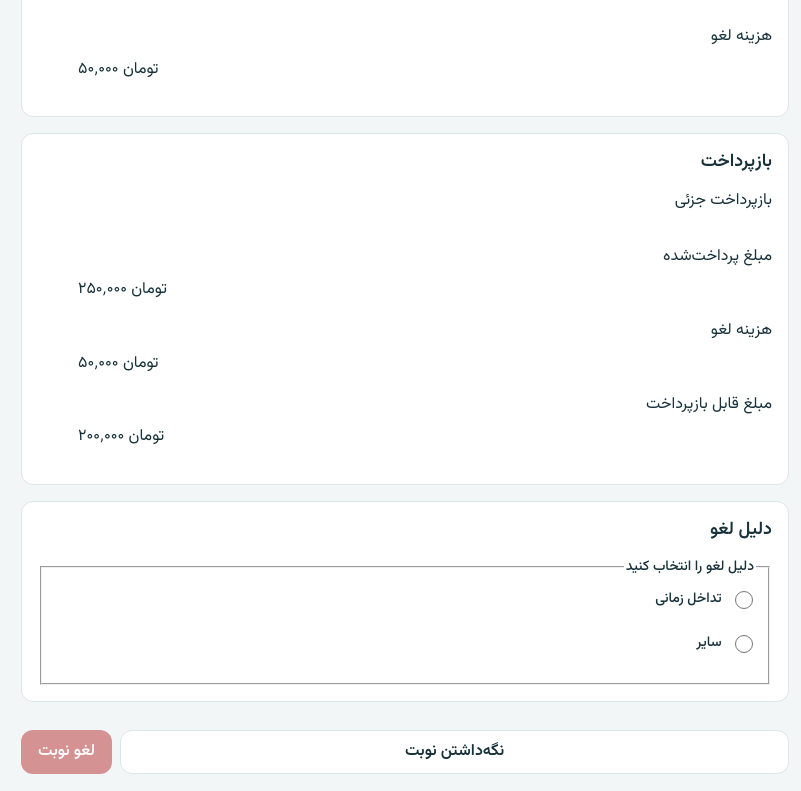
Test: AppointmentCancellationScreen › invalidates related queries after successful cancellation
(page scrolled)
Expected: the heading "دلیل لغو" is shown, x1=710 y1=516 x2=772 y2=544
Click the radio button labelled "تداخل زمانی".
click(744, 600)  # box x1=735 y1=591 x2=753 y2=609
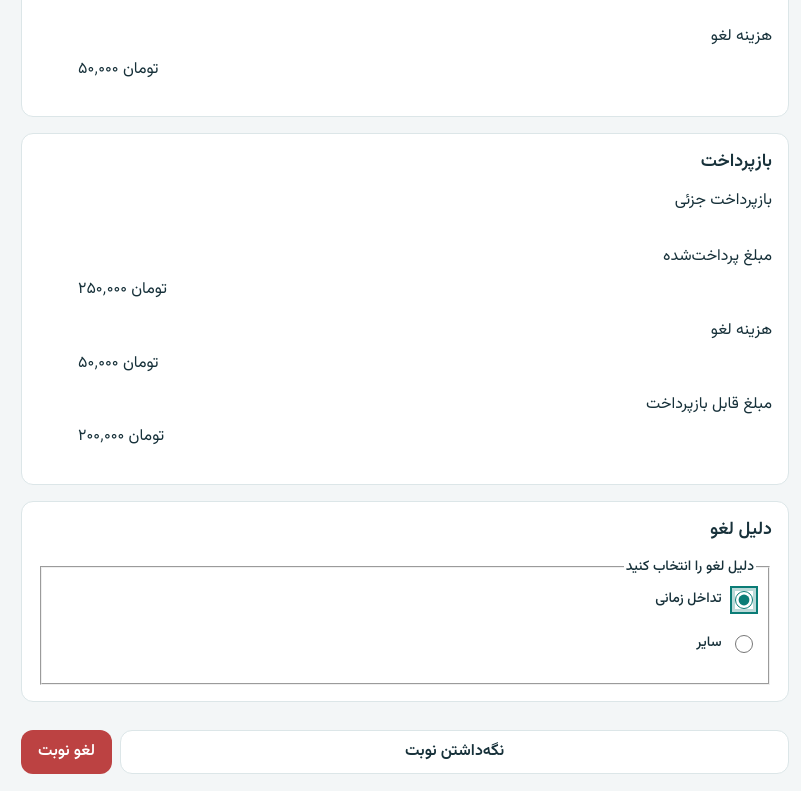
Click the button "لغو نوبت".
click(66, 752)  # box x1=21 y1=730 x2=112 y2=774
(page scrolled)
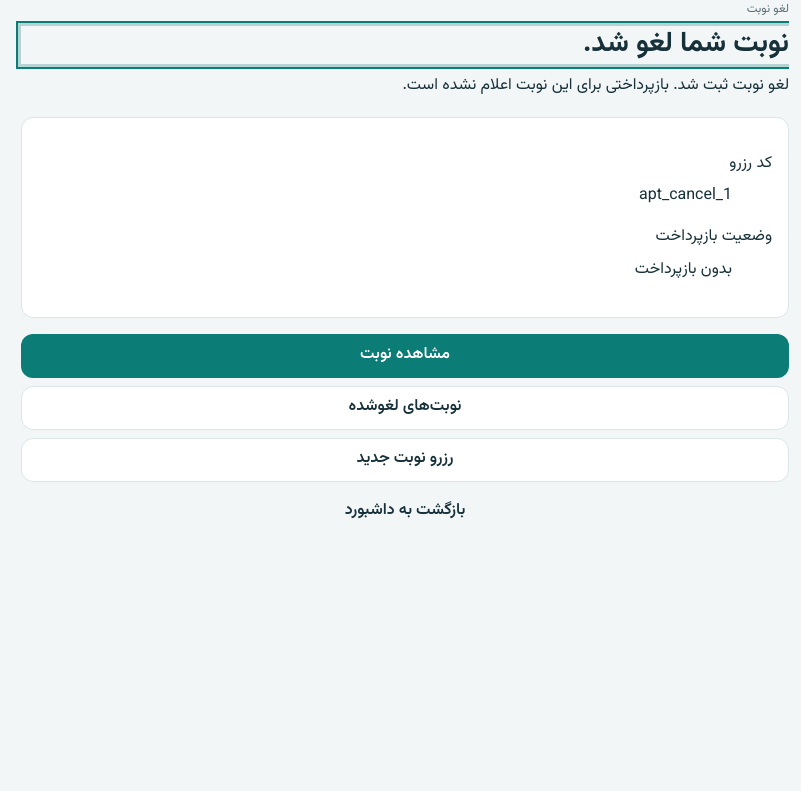
Now the heading "نوبت شما لغو شد." is shown, box x1=21 y1=26 x2=789 y2=64
